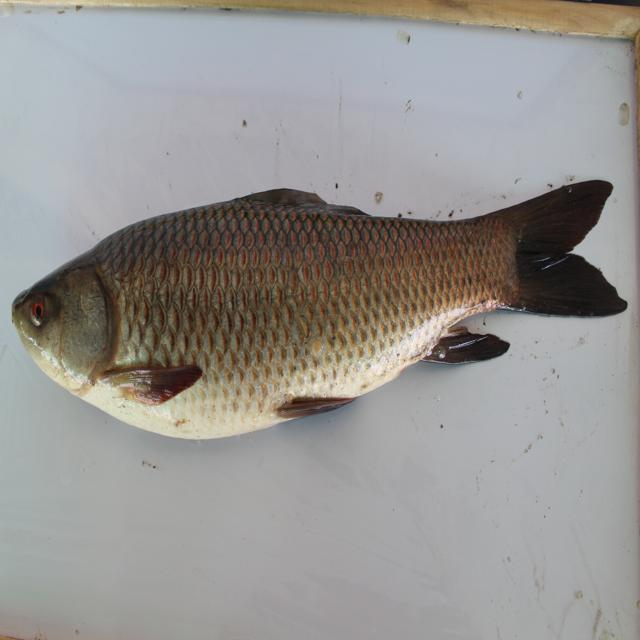Rohu: (17, 184, 613, 447)
